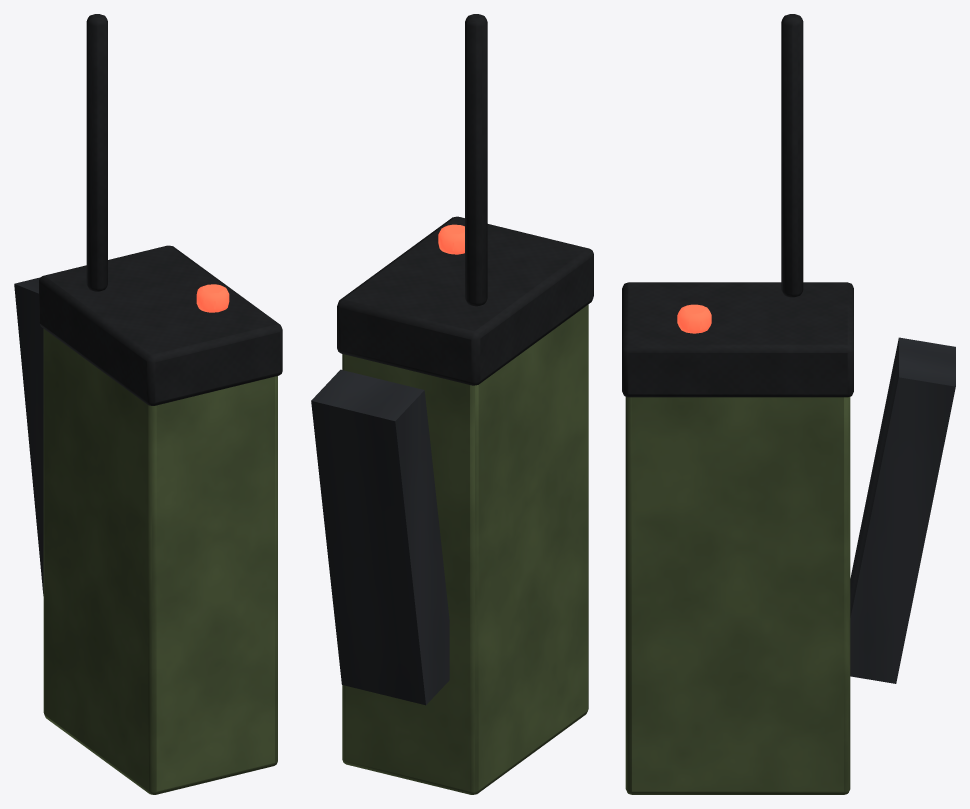
File: GAD_C4_Detonator.glb
The picture shows the model from 3 angles, left to right: view 1: azimuth 30°, elevation 25°; view 2: azimuth 150°, elevation 25°; view 3: azimuth 270°, elevation 25°; orthographic projection. The views are drawn at different scales.
Parts seen in each view (by area): view 1: GAD_C4_Detonator_Body, GAD_C4_Detonator_Clacker; view 2: GAD_C4_Detonator_Body, GAD_C4_Detonator_Clacker; view 3: GAD_C4_Detonator_Body, GAD_C4_Detonator_Clacker.
Boxes of the visible parts, bbox=[...] form: GAD_C4_Detonator_Body: bbox=[39, 14, 282, 794]; GAD_C4_Detonator_Clacker: bbox=[14, 277, 43, 595]; GAD_C4_Detonator_Body: bbox=[337, 14, 593, 794]; GAD_C4_Detonator_Clacker: bbox=[311, 369, 449, 705]; GAD_C4_Detonator_Body: bbox=[622, 14, 853, 794]; GAD_C4_Detonator_Clacker: bbox=[850, 337, 955, 683].
Size of the model in its own units: 0.044 by 0.2225 by 0.0921.
Materials: 4 (4 with a texture image).
